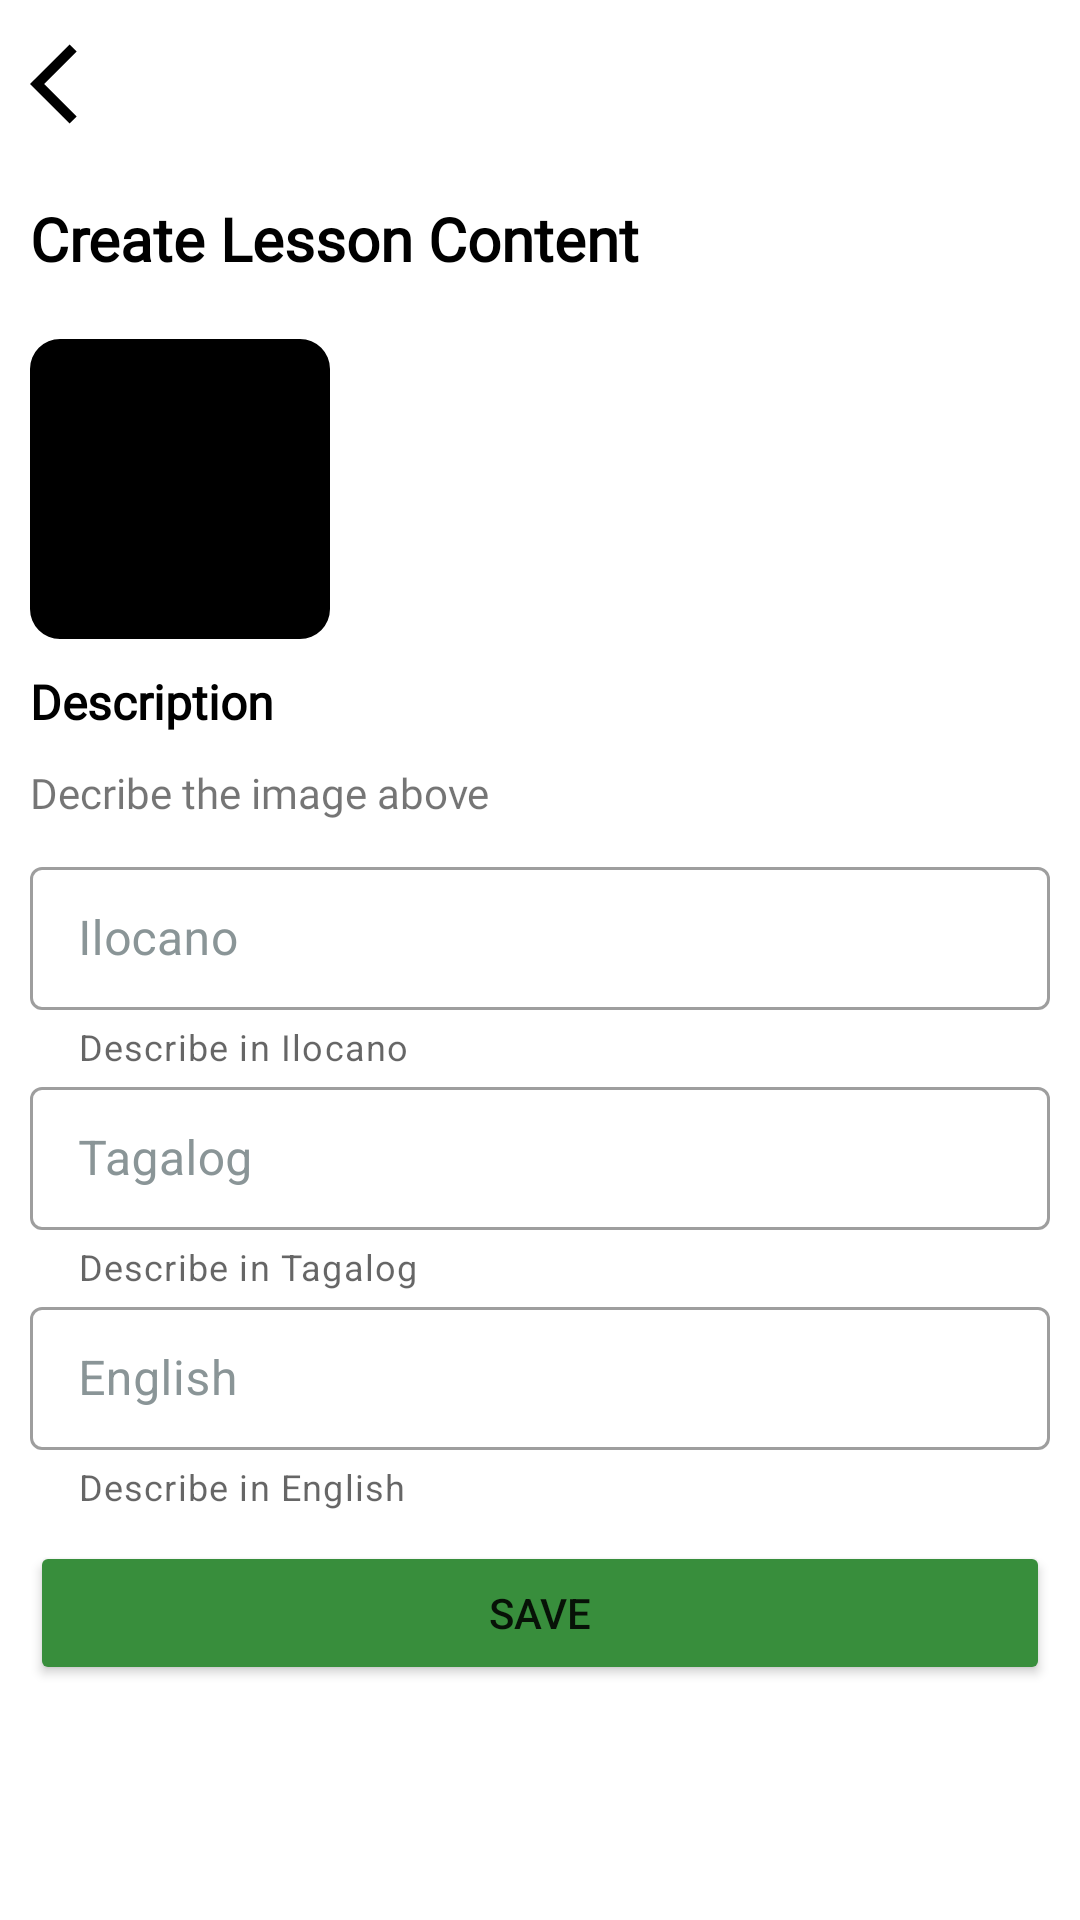

Icons on this 1080 x 1920 Android screen, each with the point to tap as point (x, y):
arrow back: point (53, 84)
